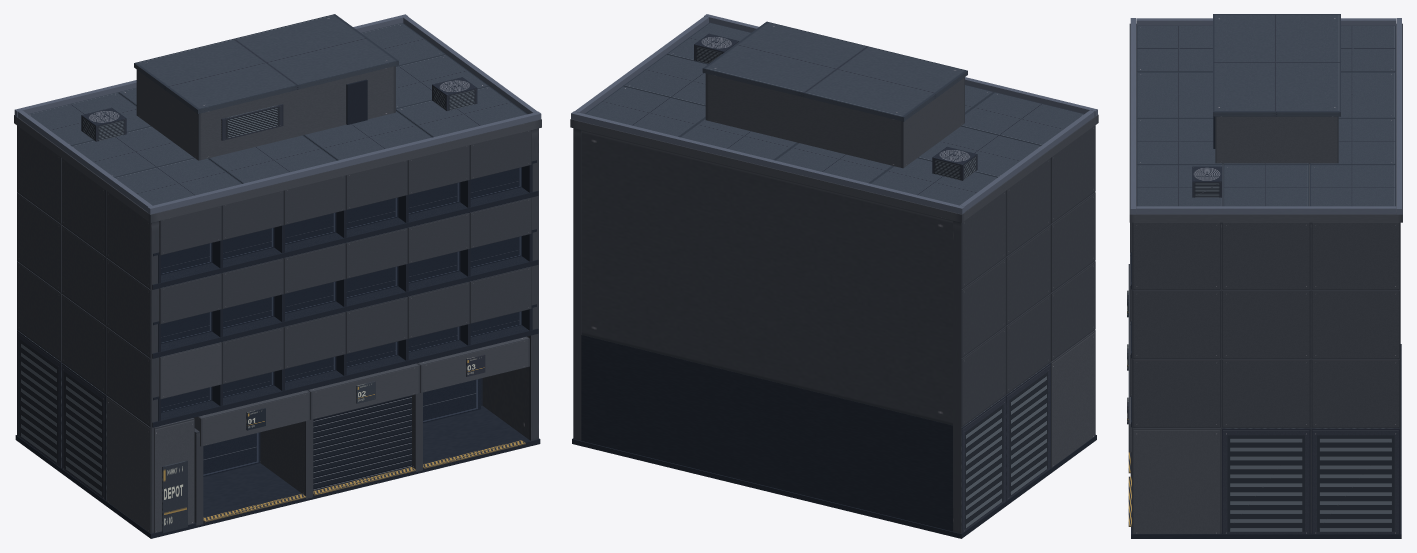
The model's file is depot_outer.glb.
3 views of the same model, side by side, from view 1: azimuth 30°, elevation 25°; view 2: azimuth 150°, elevation 25°; view 3: azimuth 270°, elevation 25° (orthographic).
Visible parts, largest first — view 1: Architecture, Shutter_2, Bay_3_Interior, Bay_1_Interior, Window_03_04, Window_02_04, Window_02_05, Window_03_05, Window_02_03, Window_02_06, Window_02_02, Window_03_03 (+10 smaller); view 2: Architecture; view 3: Architecture.
Part boxes in pixels (bbox=[...]): Architecture: bbox=[14, 14, 541, 538]; Shutter_2: bbox=[313, 395, 411, 490]; Bay_3_Interior: bbox=[423, 378, 480, 423]; Bay_1_Interior: bbox=[203, 432, 260, 476]; Window_03_04: bbox=[346, 197, 398, 229]; Window_02_04: bbox=[346, 266, 398, 298]; Window_02_05: bbox=[408, 251, 460, 283]; Window_03_05: bbox=[408, 182, 460, 214]; Window_02_03: bbox=[285, 281, 336, 313]; Window_02_06: bbox=[470, 236, 521, 268]; Window_02_02: bbox=[223, 296, 274, 328]; Window_03_03: bbox=[285, 212, 336, 244]; Architecture: bbox=[570, 14, 1098, 538]; Architecture: bbox=[1127, 14, 1402, 538].
Size of the model in its own units: 15.16 by 13.98 by 9.25.
1 material, 1 textured.
